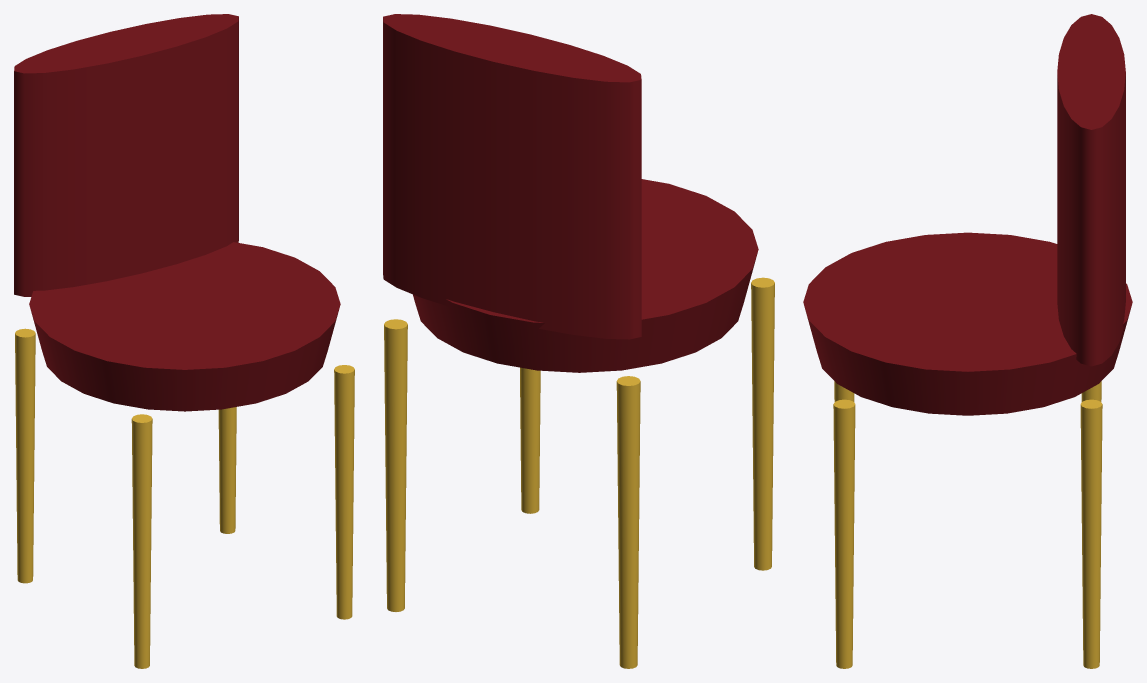
The model's file is weapon_chair.glb.
3 views of the same model, side by side, from view 1: azimuth 30°, elevation 25°; view 2: azimuth 150°, elevation 25°; view 3: azimuth 270°, elevation 25° (orthographic). The views are drawn at different scales.
Parts seen in each view (by area): view 1: Tufted_Backrest, Handle_Grip_Seat, Private_Box_Chair; view 2: Tufted_Backrest, Handle_Grip_Seat, Private_Box_Chair; view 3: Handle_Grip_Seat, Tufted_Backrest, Private_Box_Chair.
Boxes of the visible parts, x1,y1,x2,y2 form: Tufted_Backrest: (14,14,238,296); Handle_Grip_Seat: (29,242,340,411); Private_Box_Chair: (15,328,354,668); Tufted_Backrest: (383,14,641,339); Handle_Grip_Seat: (413,179,758,372); Private_Box_Chair: (384,277,774,668); Handle_Grip_Seat: (803,232,1132,415); Tufted_Backrest: (1057,14,1125,366); Private_Box_Chair: (833,381,1102,668).
Size of the model in its own units: 0.48 by 0.87 by 0.48.
